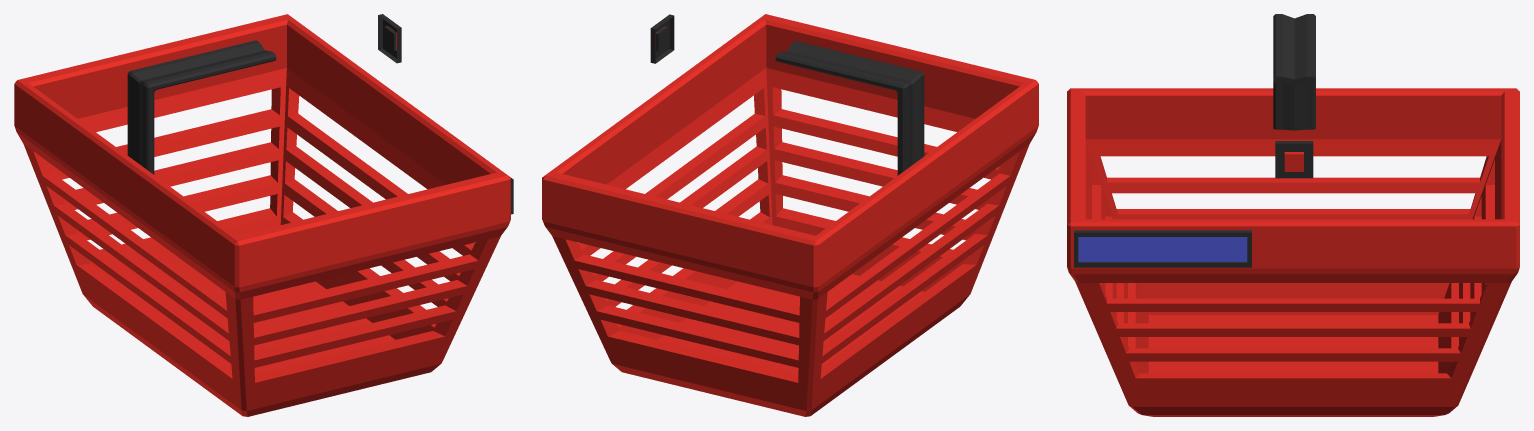
Rendered from basket.glb.
3 renders of one model, left to right at view 1: azimuth 30°, elevation 25°; view 2: azimuth 150°, elevation 25°; view 3: azimuth 270°, elevation 25°, orthographic.
Parts seen in each view (by area): view 1: Basket, Basket_Handle, Basket_Button_Frame; view 2: Basket, Basket_Handle, Basket_Button_Frame; view 3: Basket, Basket_Handle, Basket_Display_Glass, Basket_Display_Frame, Basket_Button_Frame.
Boxes of the visible parts, <box> form: Basket: <box>14,14,510,416</box>; Basket_Handle: <box>127,40,276,174</box>; Basket_Button_Frame: <box>378,14,401,63</box>; Basket: <box>542,14,1038,416</box>; Basket_Handle: <box>775,41,924,175</box>; Basket_Button_Frame: <box>650,14,674,63</box>; Basket: <box>1067,88,1519,416</box>; Basket_Handle: <box>1273,14,1315,130</box>; Basket_Display_Glass: <box>1078,237,1247,261</box>; Basket_Display_Frame: <box>1074,230,1251,267</box>; Basket_Button_Frame: <box>1275,141,1313,178</box>.
Size of the model in its own units: 0.7845 by 0.7891 by 1.08.
